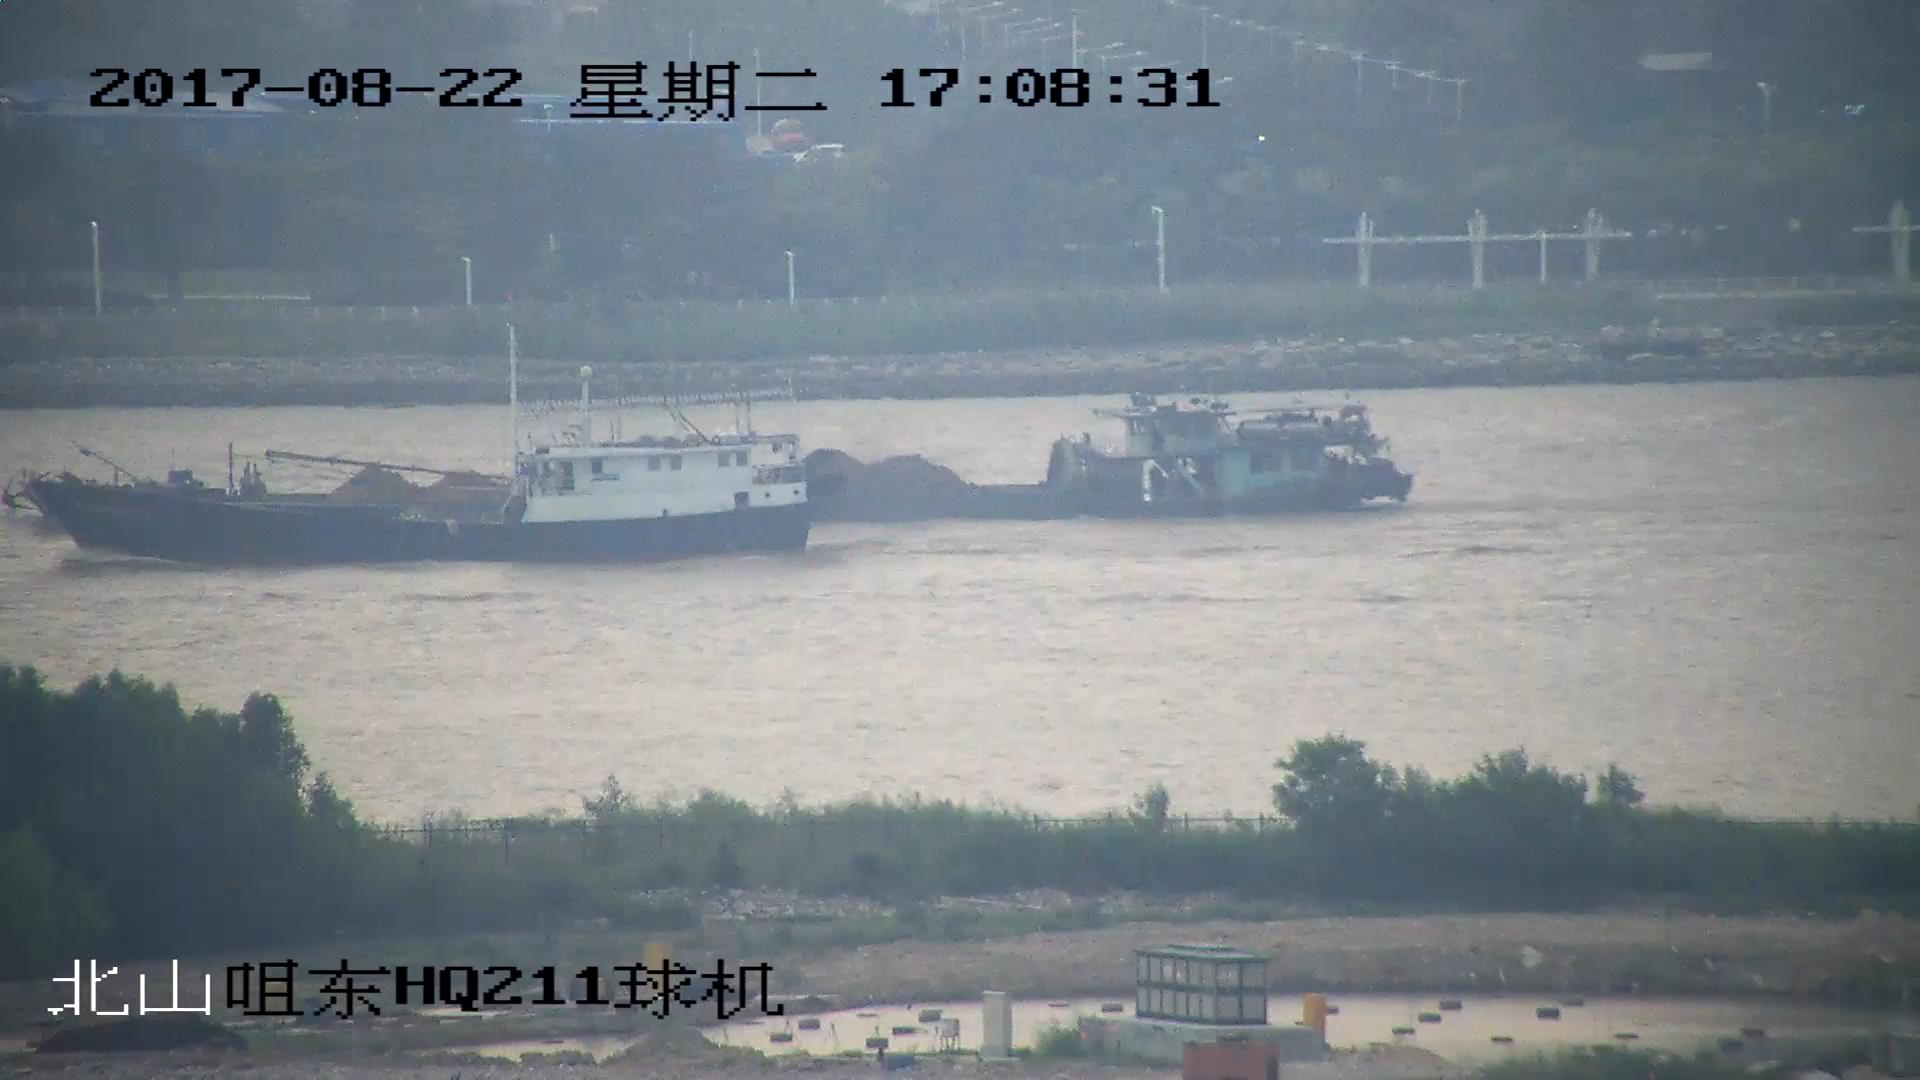fishing boat: (31, 376, 812, 561)
ore carrier: (1, 385, 1418, 522)
